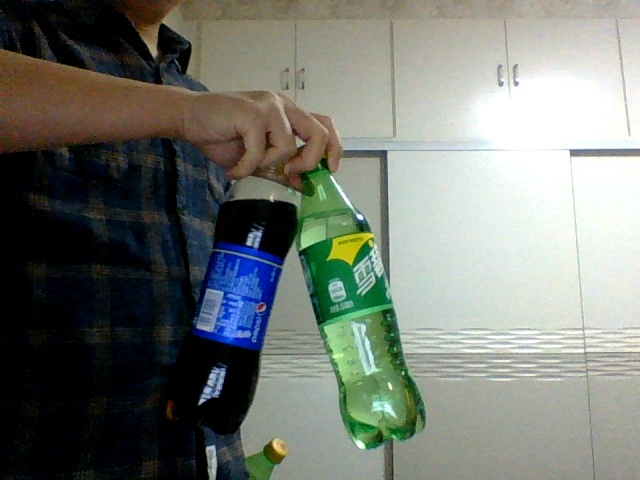Cola: (165, 145, 302, 433)
Sprite: (295, 158, 428, 449)
